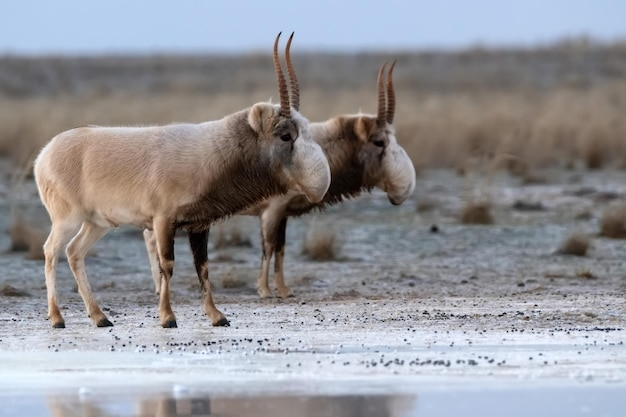saiga: (32, 31, 332, 328), (217, 59, 412, 295)
